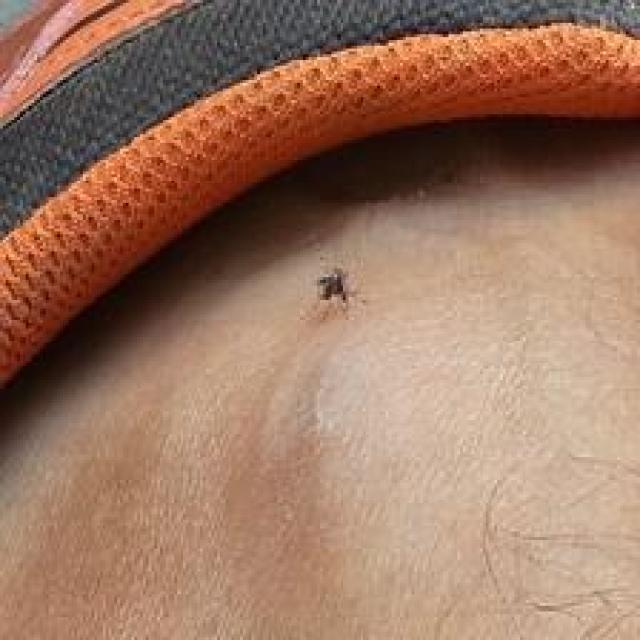Aedes albopictus: (316, 266, 353, 314)
